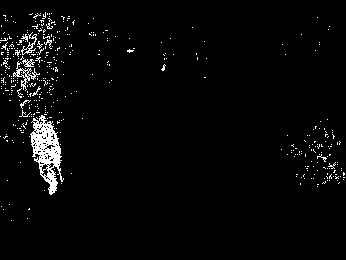person: (29, 116, 67, 196)
